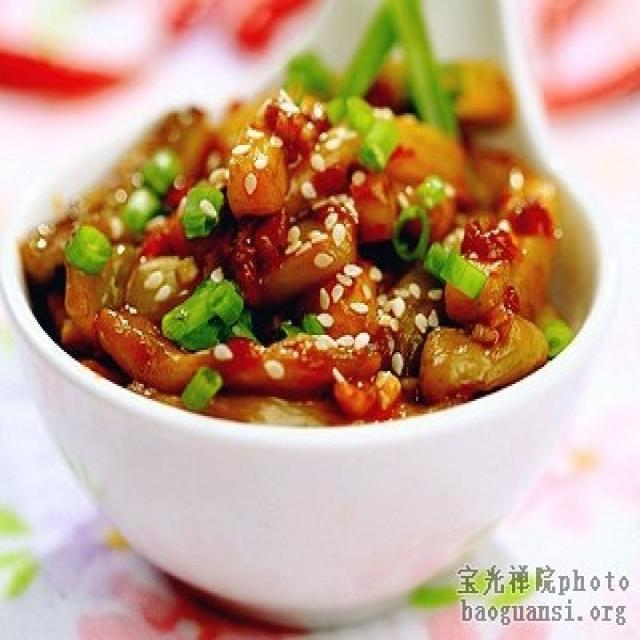鸡蛋料理: (16, 47, 619, 591)
